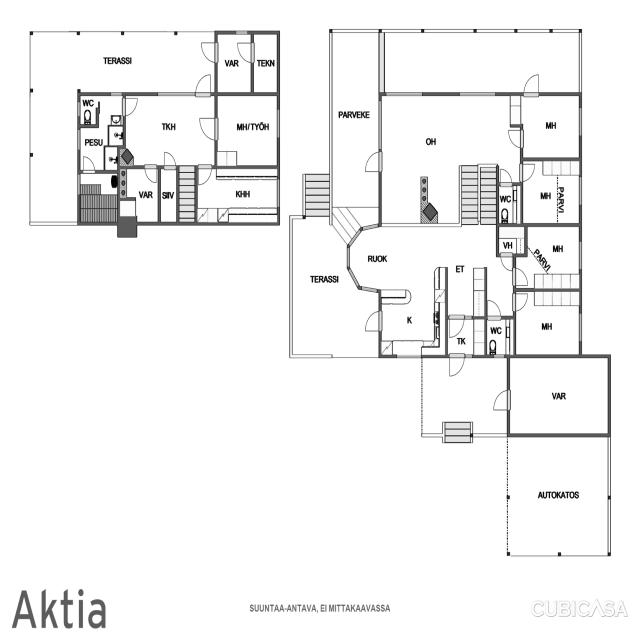door: (512, 268, 530, 316), (360, 148, 384, 176), (361, 308, 385, 336), (198, 114, 218, 143), (490, 388, 512, 413), (521, 71, 542, 97), (447, 352, 466, 379), (448, 314, 466, 340), (506, 126, 525, 150), (200, 40, 218, 64), (512, 265, 530, 289), (195, 72, 213, 95), (238, 40, 255, 64), (122, 95, 140, 117), (518, 162, 536, 184), (512, 290, 529, 312), (196, 165, 213, 187), (486, 298, 502, 320), (499, 252, 515, 274), (498, 166, 514, 188), (162, 149, 177, 171), (82, 154, 96, 173), (144, 165, 158, 183)
window: (375, 98, 385, 151), (382, 87, 425, 99), (457, 88, 498, 100), (155, 88, 196, 98), (394, 349, 424, 362), (576, 238, 586, 274), (576, 173, 585, 211), (576, 309, 585, 346), (576, 105, 585, 142), (274, 106, 282, 141), (274, 177, 282, 210), (491, 350, 508, 360), (234, 28, 251, 38), (75, 173, 81, 198), (75, 128, 81, 152), (109, 90, 124, 98), (76, 102, 82, 120)
zone: (377, 92, 521, 223), (508, 355, 612, 436), (123, 92, 218, 168), (379, 274, 445, 358), (196, 169, 280, 224), (216, 94, 279, 167), (515, 290, 582, 356), (519, 224, 582, 288), (521, 93, 581, 159), (522, 160, 582, 223), (78, 124, 123, 172), (216, 32, 251, 92), (80, 169, 118, 224), (121, 168, 159, 220), (252, 31, 278, 93), (78, 94, 125, 126), (485, 316, 515, 356), (160, 168, 178, 224), (498, 184, 522, 225), (496, 224, 527, 253), (80, 96, 103, 124)
